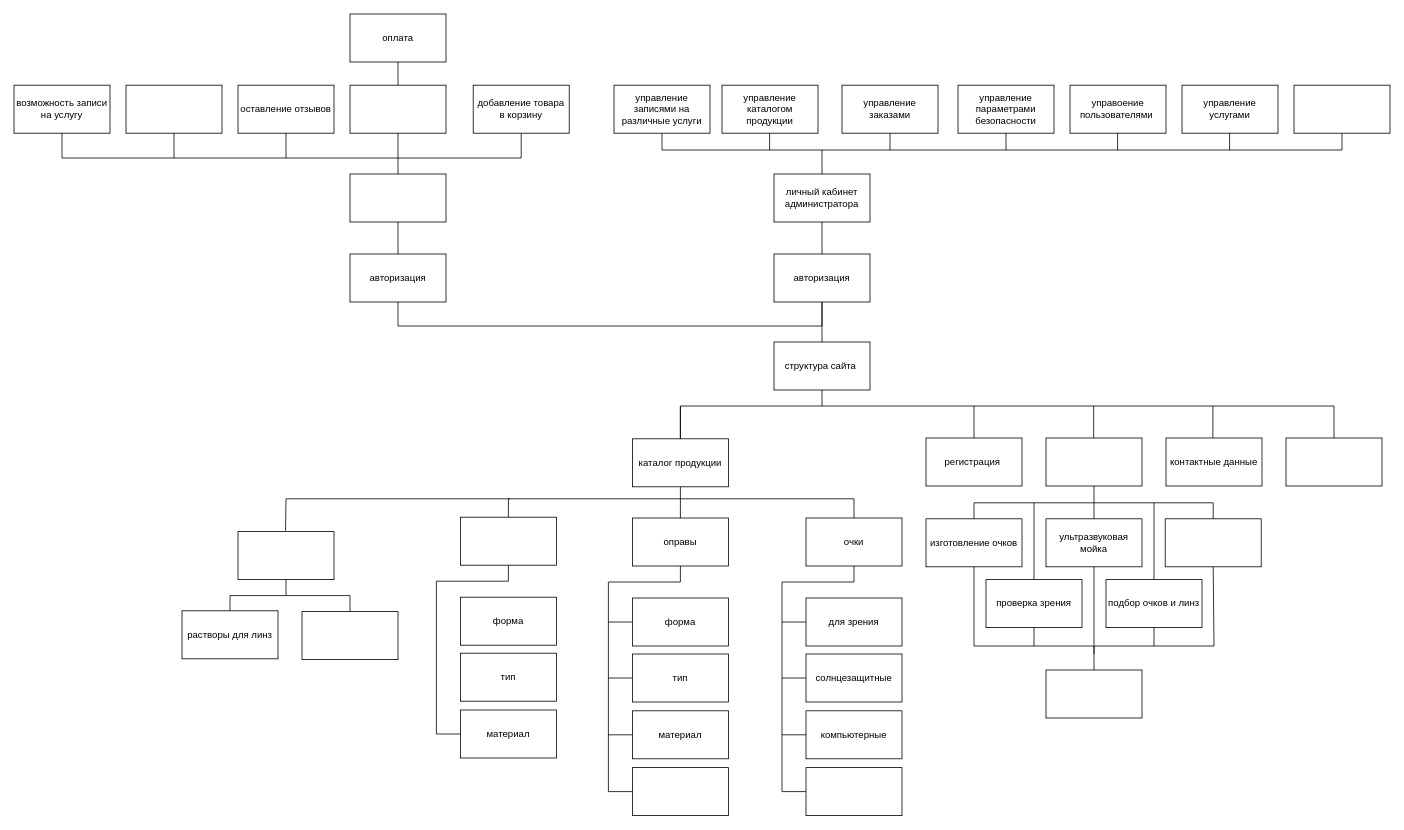
The diagram is 1404 pixels wide and 830 high, and some of its shapes have lost their labels. The shapes that lost their labels are listed below. From the top down, each one's centre as x and y in pixels, then its label:
point (173, 108): связь через предоставленные контактные данные
point (397, 108): возможность сделать заказ
point (1341, 108): управление новостями и акциями
point (397, 197): личный кабинет пользователя
point (1093, 461): услуги
point (1333, 461): новости и акции
point (285, 555): растворы и капли
point (508, 540): конктактные линзы
point (1212, 542): ремонт очков
point (349, 635): капли для глаз
point (1093, 693): запись на каккю-либо услугу
point (680, 791): женские/мужские/детские
point (853, 791): имиджевые
